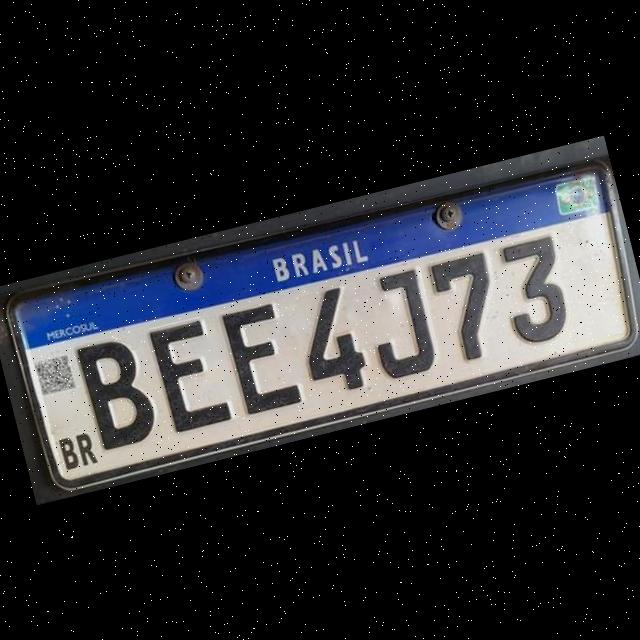Caractere: (419, 246, 512, 370), (72, 330, 161, 455), (490, 228, 580, 350), (144, 313, 231, 437), (288, 279, 374, 401), (356, 263, 441, 385), (217, 297, 300, 419)
Placa: (4, 147, 640, 493)
